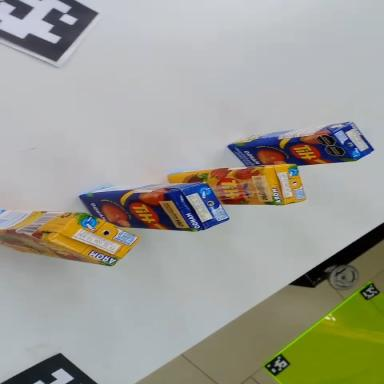HIT-MANGO: (79, 181, 229, 239), (227, 121, 374, 172)
HIT-MORA: (0, 210, 140, 268), (169, 163, 306, 208)
cara_F: (226, 131, 355, 172), (79, 191, 195, 232), (169, 167, 275, 205), (0, 233, 114, 267)
